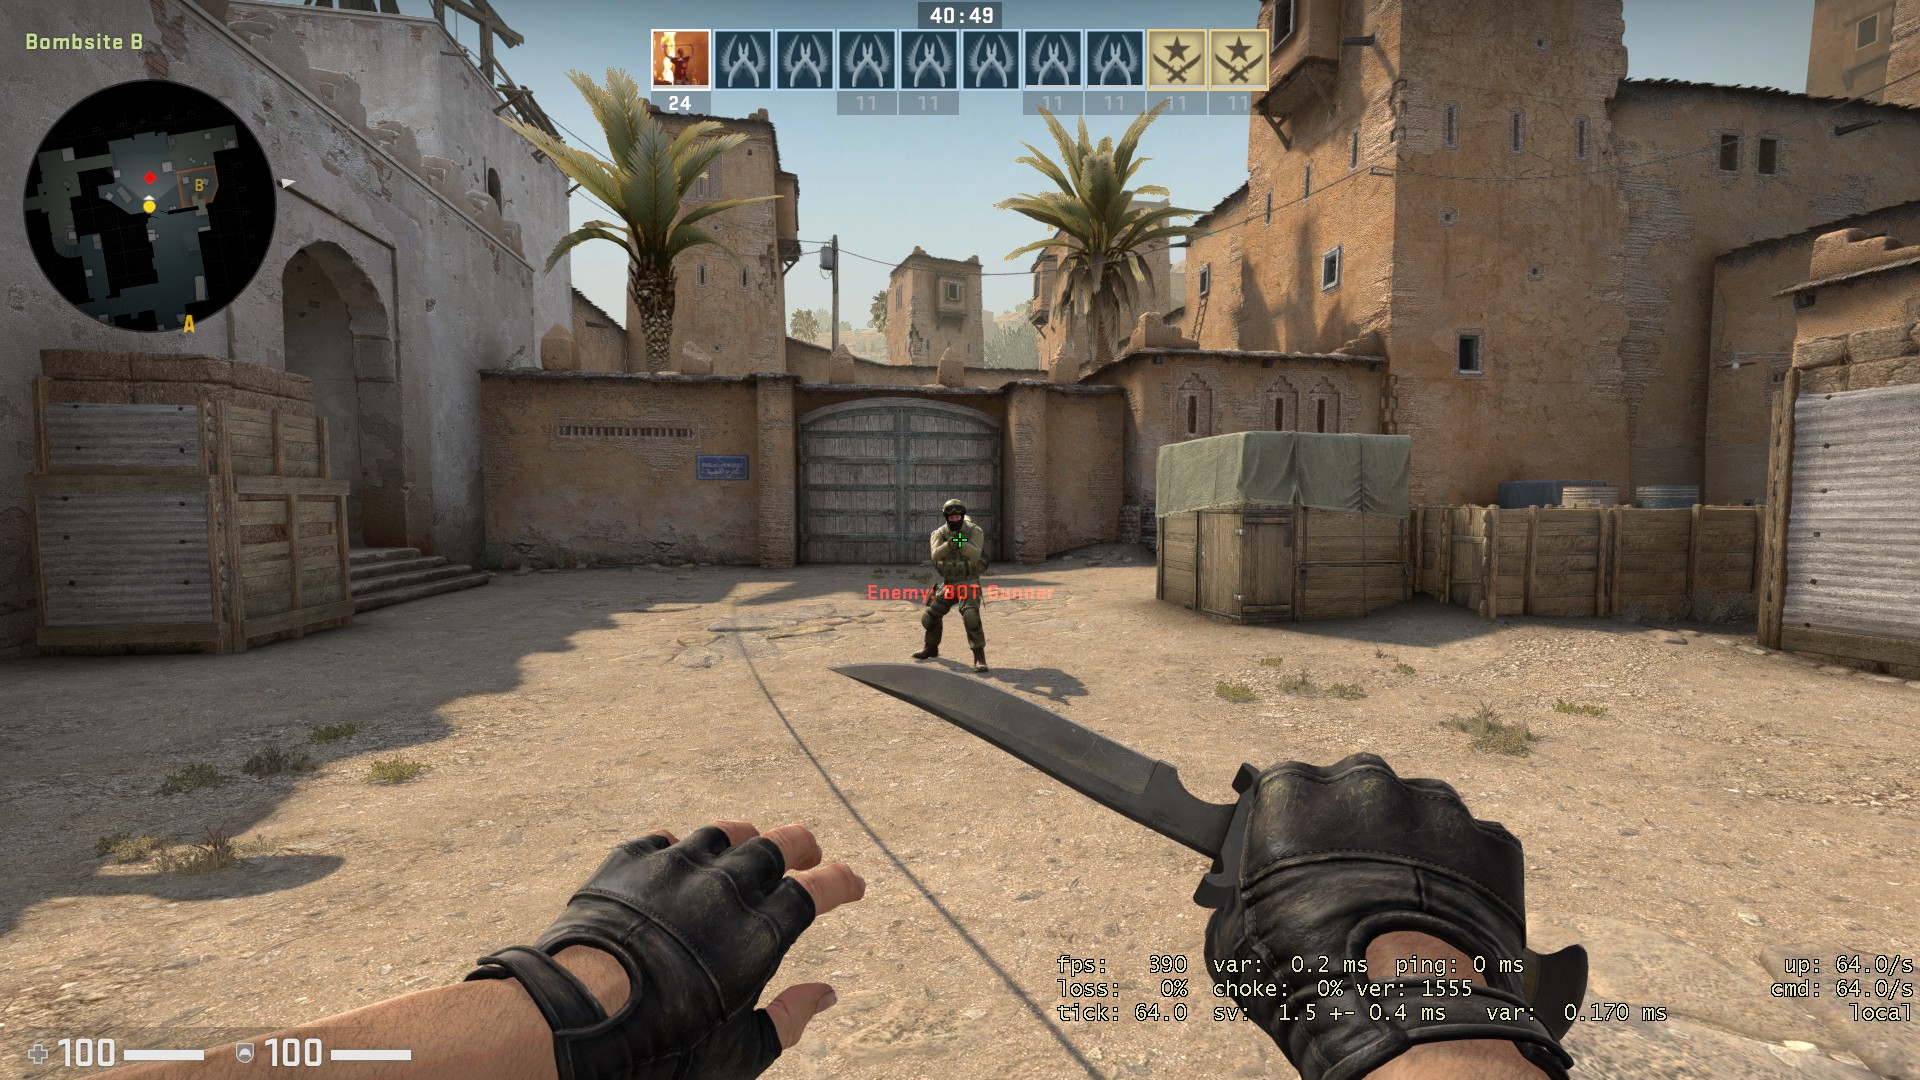player: (910, 494, 991, 676)
